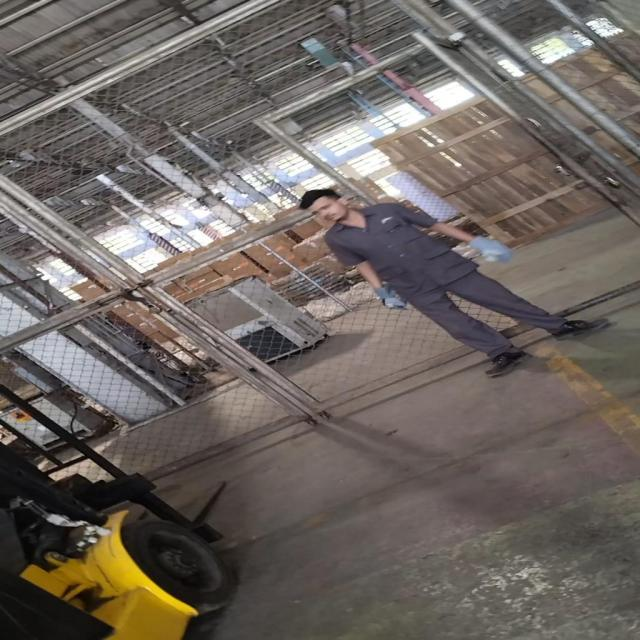Gloves-Detection: (459, 229, 513, 268), (368, 282, 406, 312)
